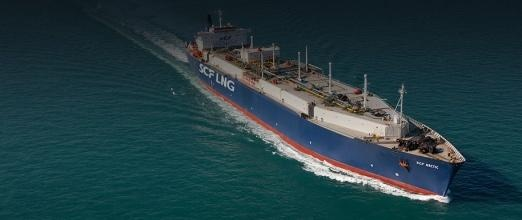Cargoship: (187, 9, 462, 202)
